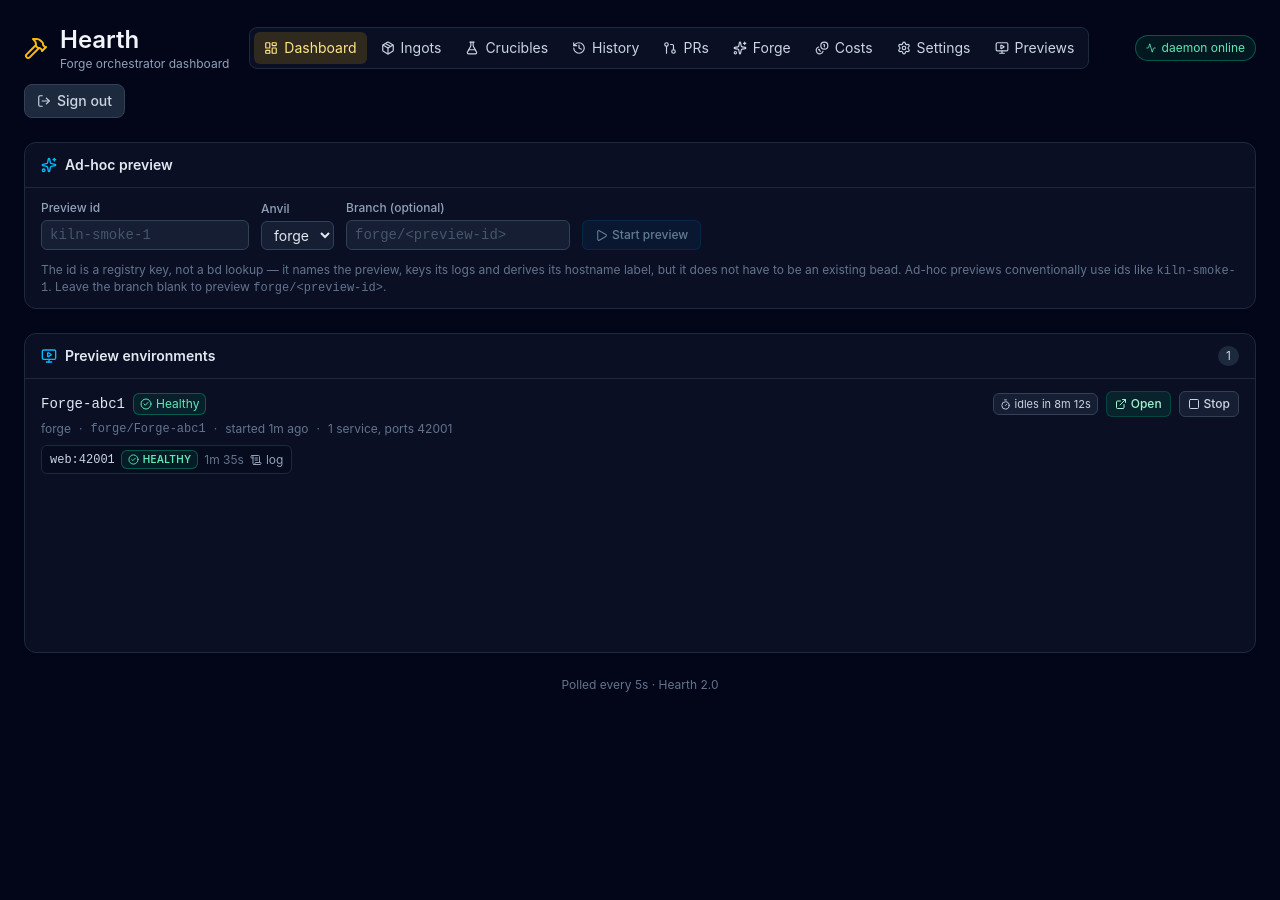
Test case: PreviewsPage ad-hoc preview form › refuses an id that already has a preview rather than adopting it
Step 1. Type "Forge-abc1" into the field with test id "adhoc-preview-id" → {"x": 145, "y": 235}, box top-left (41, 220), bottom-right (249, 250)
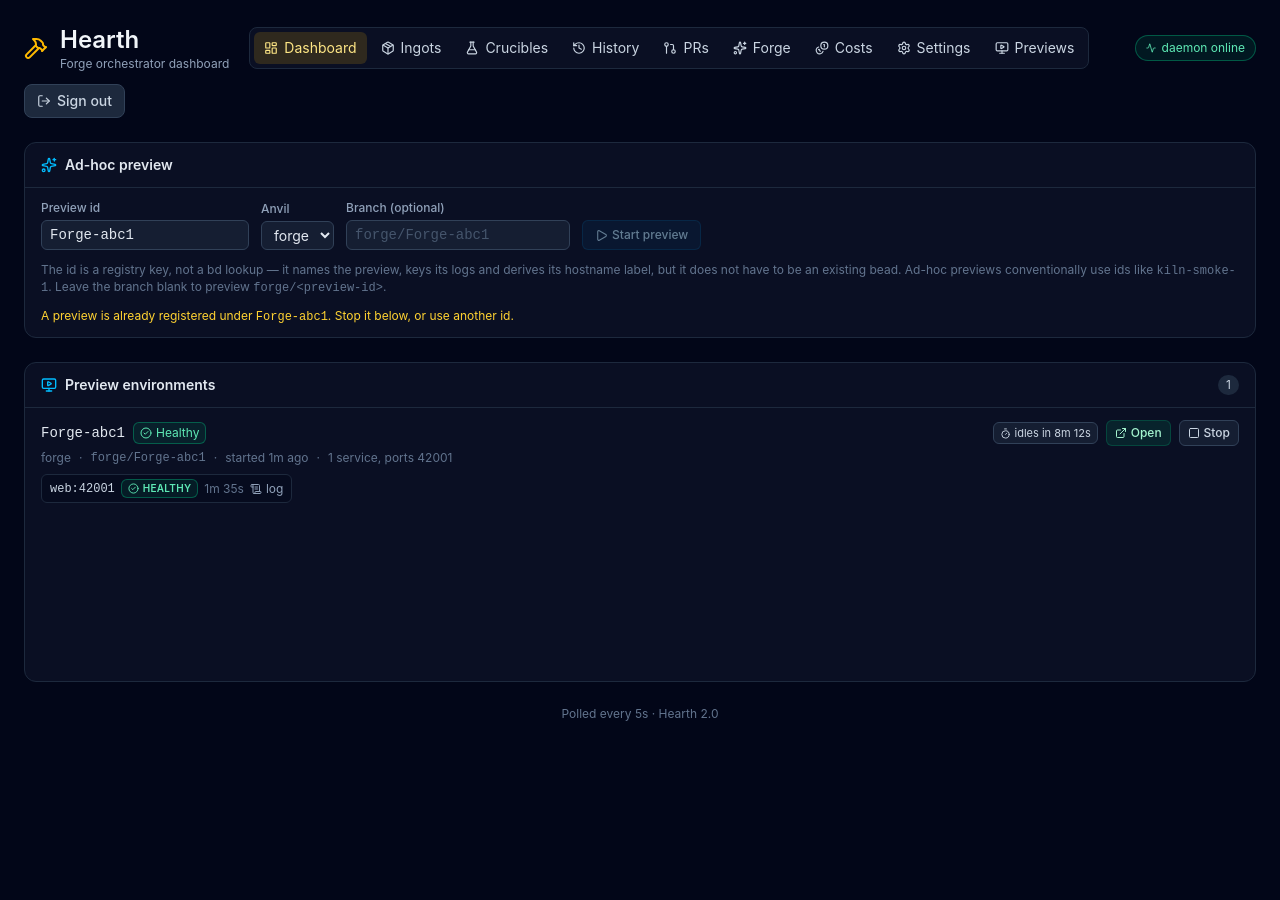
Expected: the button with test id "adhoc-preview-submit" is disabled, top-left (582, 220), bottom-right (701, 250)
Expected: the element with test id "adhoc-preview-taken" is shown, top-left (41, 308), bottom-right (514, 324)
